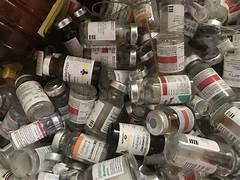Iv_Bottle: (164, 133, 238, 175), (185, 60, 234, 108), (85, 81, 126, 136), (10, 113, 64, 148), (15, 74, 54, 121), (107, 123, 164, 155), (129, 75, 191, 103), (52, 131, 106, 163), (43, 55, 100, 84), (77, 154, 139, 179), (210, 103, 239, 153), (79, 21, 137, 46), (146, 105, 194, 135), (66, 84, 96, 130), (10, 146, 51, 178), (83, 45, 136, 69), (156, 32, 185, 74), (56, 17, 82, 56), (44, 79, 68, 118), (0, 102, 28, 135), (129, 0, 158, 29), (159, 0, 184, 31), (99, 0, 132, 23), (118, 101, 148, 124), (0, 78, 16, 119), (71, 6, 97, 28), (187, 94, 211, 115), (0, 135, 14, 168), (44, 152, 63, 172), (0, 168, 20, 179)
